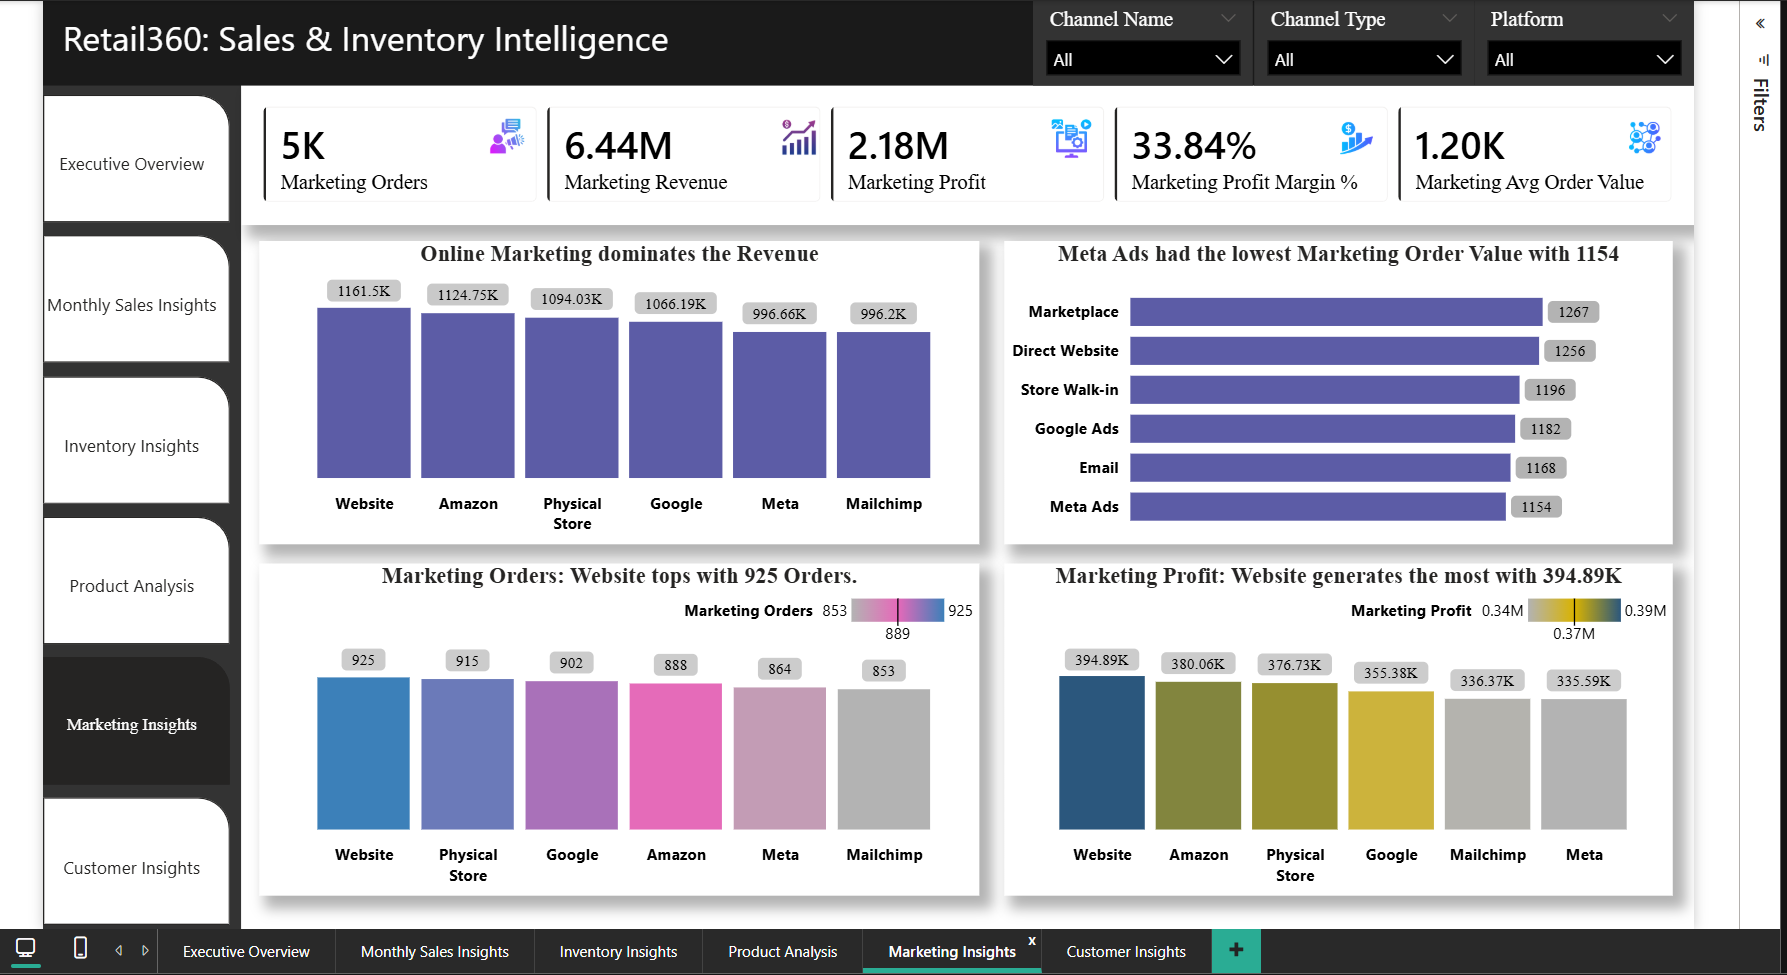

The dashboard page shown, as its layout file describes it:
{"tool":"powerbi","page":{"name":"Marketing Insights","canvas":[1280,720],"ordinal":4},"visuals":[{"type":"textbox","box":[0,65,153.8,655],"z":0},{"type":"cardVisual","fields":{"Data":["Dax measure.Marketing Orders","Dax measure.Marketing Revenue","Dax measure.Marketing Profit","Dax measure.Marketing Profit Margin %","Dax measure.Marketing Average Order Value"]},"box":[153.8,65,1126.2,108.8],"z":1000},{"type":"lineClusteredColumnComboChart","title":"Online Marketing dominates the Revenue","fields":{"Category":["vw_marketing_performance.platform"],"Y":["Dax measure.Marketing Revenue"]},"box":[167.5,186.2,558.8,235],"z":2000},{"type":"clusteredColumnChart","title":"Marketing Orders: Website tops with 925 Orders.","fields":{"Y":["Dax measure.Marketing Orders"],"Category":["vw_marketing_performance.platform"]},"box":[167.5,436.2,558.8,257.5],"z":3000},{"type":"clusteredBarChart","title":"Meta Ads had the lowest Marketing Order Value with 1154","fields":{"Category":["vw_marketing_performance.channel_name"],"Y":["Dax measure.Marketing Average Order Value"]},"box":[745,186.2,518.8,235],"z":4000},{"type":"clusteredColumnChart","title":"Marketing Profit: Website generates the most with 394.89K","fields":{"Y":["Dax measure.Marketing Profit"],"Category":["vw_marketing_performance.platform"]},"box":[745,436.2,518.8,257.5],"z":5000},{"type":"textbox","box":[0,0,1280.3,65.3],"z":6000},{"type":"slicer","fields":{"Values":["vw_marketing_performance.channel_name"]},"box":[768.2,0,170.7,65.3],"z":7000},{"type":"slicer","fields":{"Values":["vw_marketing_performance.channel_type"]},"box":[938.9,0,170.7,65.3],"z":8000},{"type":"slicer","fields":{"Values":["vw_marketing_performance.platform"]},"box":[1109.6,0,170.7,65.3],"z":9000},{"type":"image","box":[777.9,90.7,38.4,31.4],"z":10000},{"type":"image","box":[1004.7,90.7,29.1,30.2],"z":11000},{"type":"image","box":[1227.9,90.7,27.9,30.2],"z":12000},{"type":"image","box":[346.5,89.5,27.9,31.4],"z":13000},{"type":"image","box":[572.1,89.5,29.1,32.6],"z":14000},{"type":"pageNavigator","box":[0,72.8,145.5,647.5],"z":14001}]}

Visuals, with their boxes on the page's 1280x720 design canvas (x1, y1, x2, y2). These are canvas units, not pixel positions in the 1787x975 screenshot, which may show the page scaled, cropped or inside an application window:
textbox: x1=0 y1=65 x2=154 y2=720
cardVisual - Dax measure.Marketing Orders x Dax measure.Marketing Revenue: x1=154 y1=65 x2=1280 y2=174
"Online Marketing dominates the Revenue" lineClusteredColumnComboChart: x1=168 y1=186 x2=726 y2=421
"Marketing Orders: Website tops with 925 Orders." clusteredColumnChart: x1=168 y1=436 x2=726 y2=694
"Meta Ads had the lowest Marketing Order Value with 1154" clusteredBarChart: x1=745 y1=186 x2=1264 y2=421
"Marketing Profit: Website generates the most with 394.89K" clusteredColumnChart: x1=745 y1=436 x2=1264 y2=694
textbox: x1=0 y1=0 x2=1280 y2=65
slicer - vw_marketing_performance.channel_name: x1=768 y1=0 x2=939 y2=65
slicer - vw_marketing_performance.channel_type: x1=939 y1=0 x2=1110 y2=65
slicer - vw_marketing_performance.platform: x1=1110 y1=0 x2=1280 y2=65
image: x1=778 y1=91 x2=816 y2=122
image: x1=1005 y1=91 x2=1034 y2=121
image: x1=1228 y1=91 x2=1256 y2=121
image: x1=346 y1=90 x2=374 y2=121
image: x1=572 y1=90 x2=601 y2=122
pageNavigator: x1=0 y1=73 x2=146 y2=720
